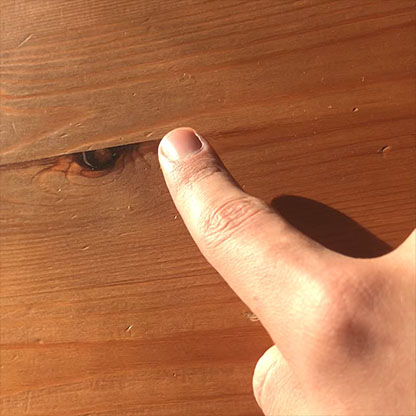fingertip: (147, 119, 214, 175)
